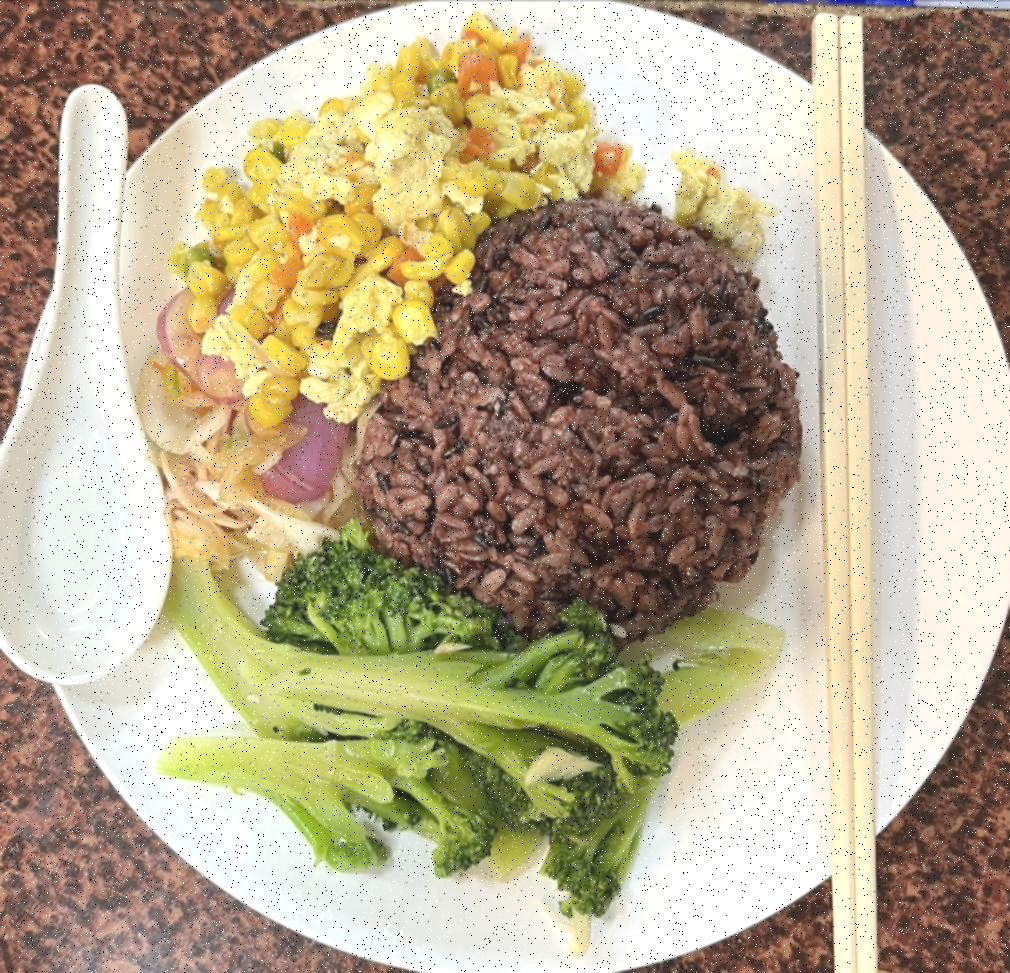big fried chicken leg: (6, 6, 1010, 973)
braised fish: (368, 200, 800, 640)
braised fish fillet: (160, 538, 792, 920), (173, 14, 634, 414), (132, 297, 371, 570)
